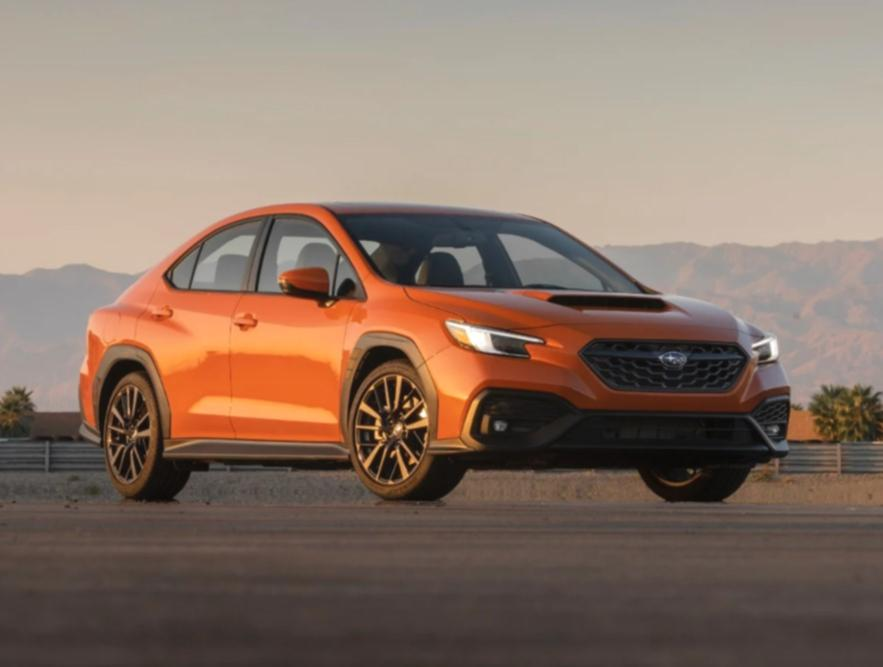subaru: (653, 343, 695, 384)
